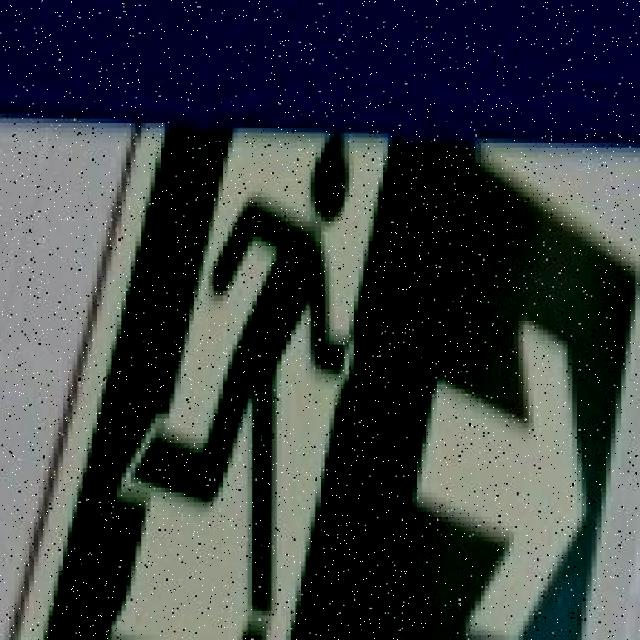emergency_exit: (2, 117, 638, 639)
